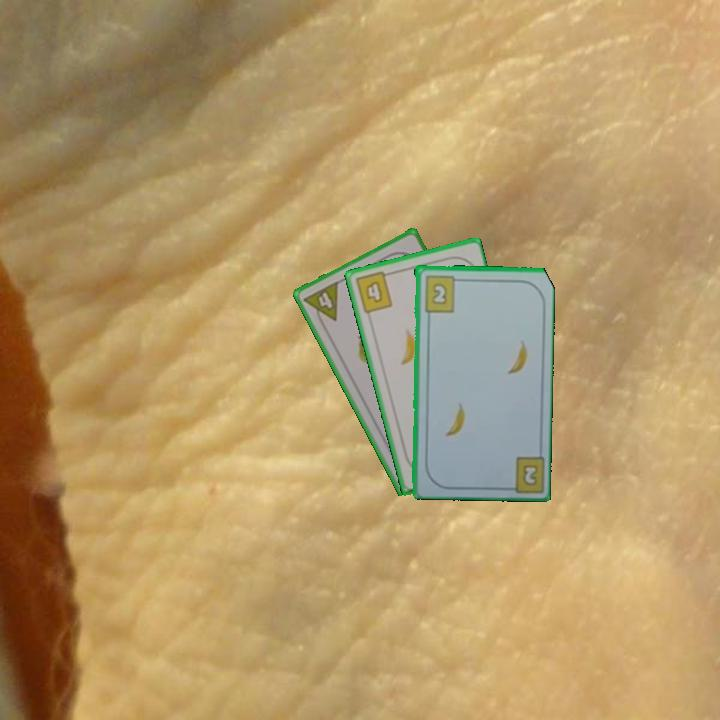2b: (500, 451, 545, 493), (421, 272, 463, 314)
4b: (351, 268, 395, 316)
4p: (300, 278, 341, 330)
